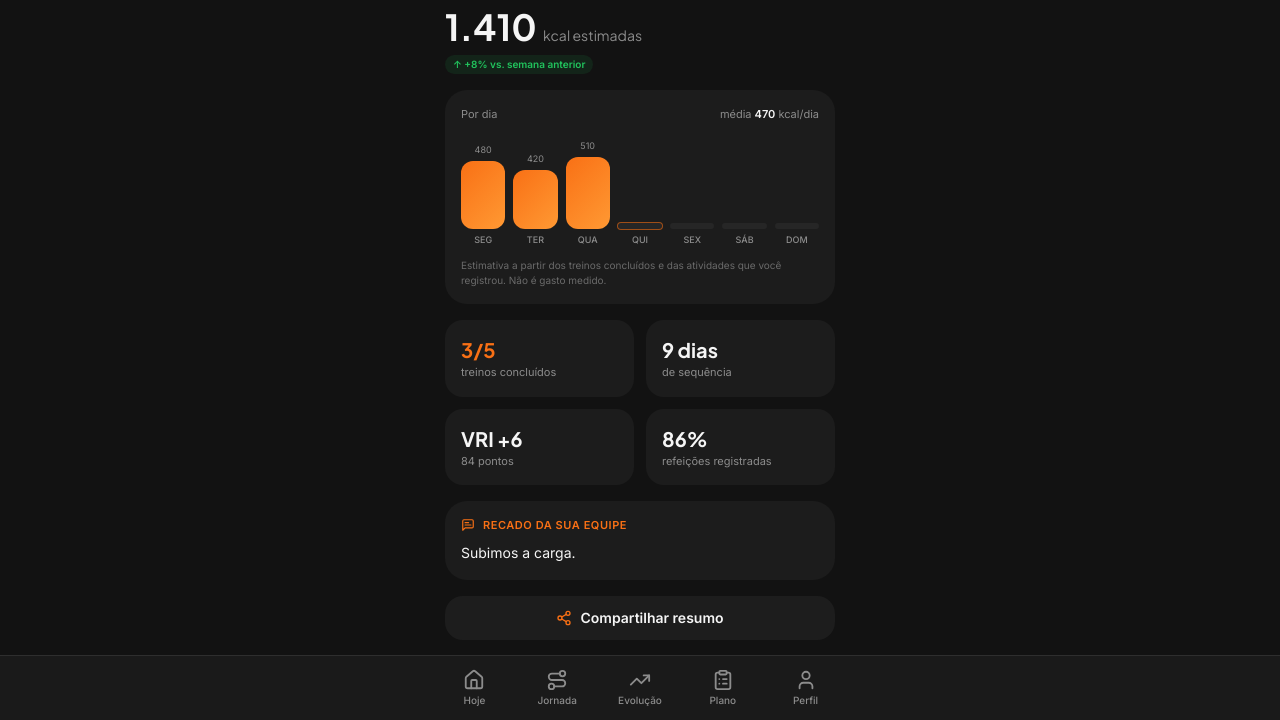
it: Resumo da semana (PDF do Ernâni, tela 17) › compartilhar gera a imagem com o recado vigente e entrega ao sistema
(page scrolled)
Expected: the element with test id "weekly-note" shows "Subimos a carga.", [461,544,576,560]
Click the button "Compartilhar resumo": (640, 618) [445,596,835,640]
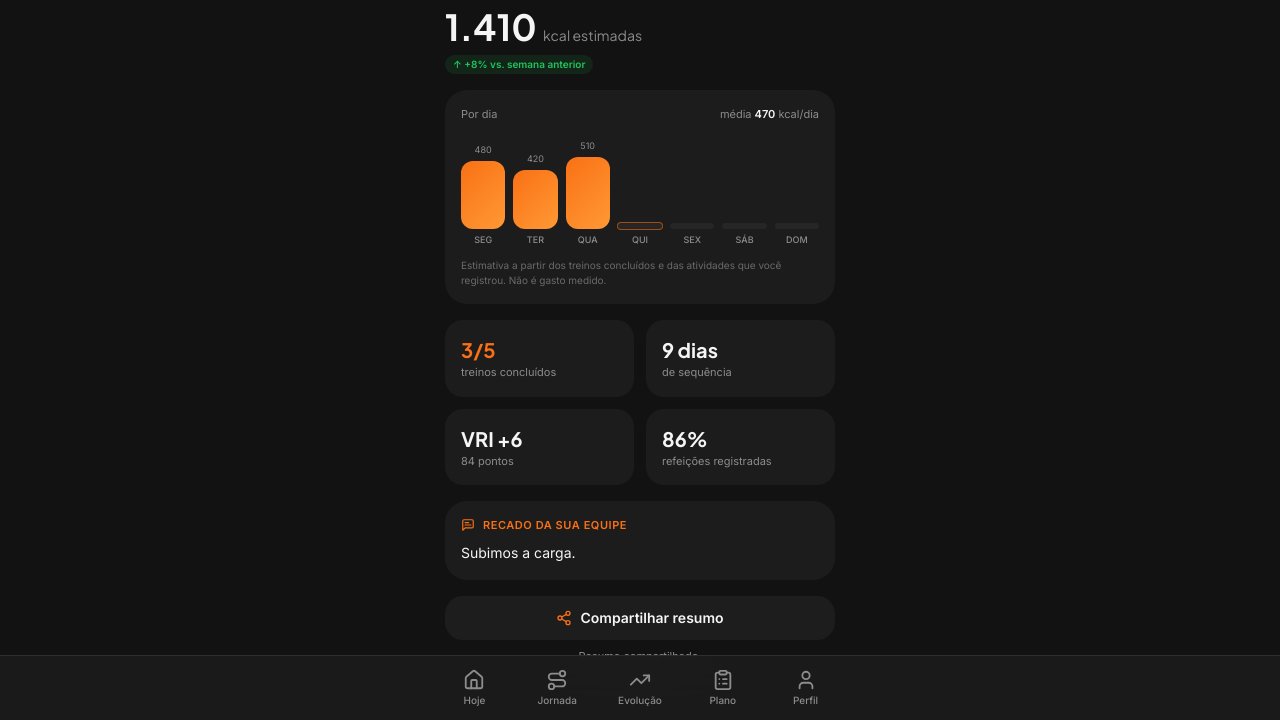
Expected: the message reads "Resumo compartilhado.", [578,649,701,663]
